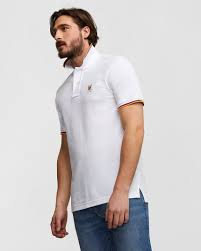C_polo shirt: (40, 45, 158, 203)
